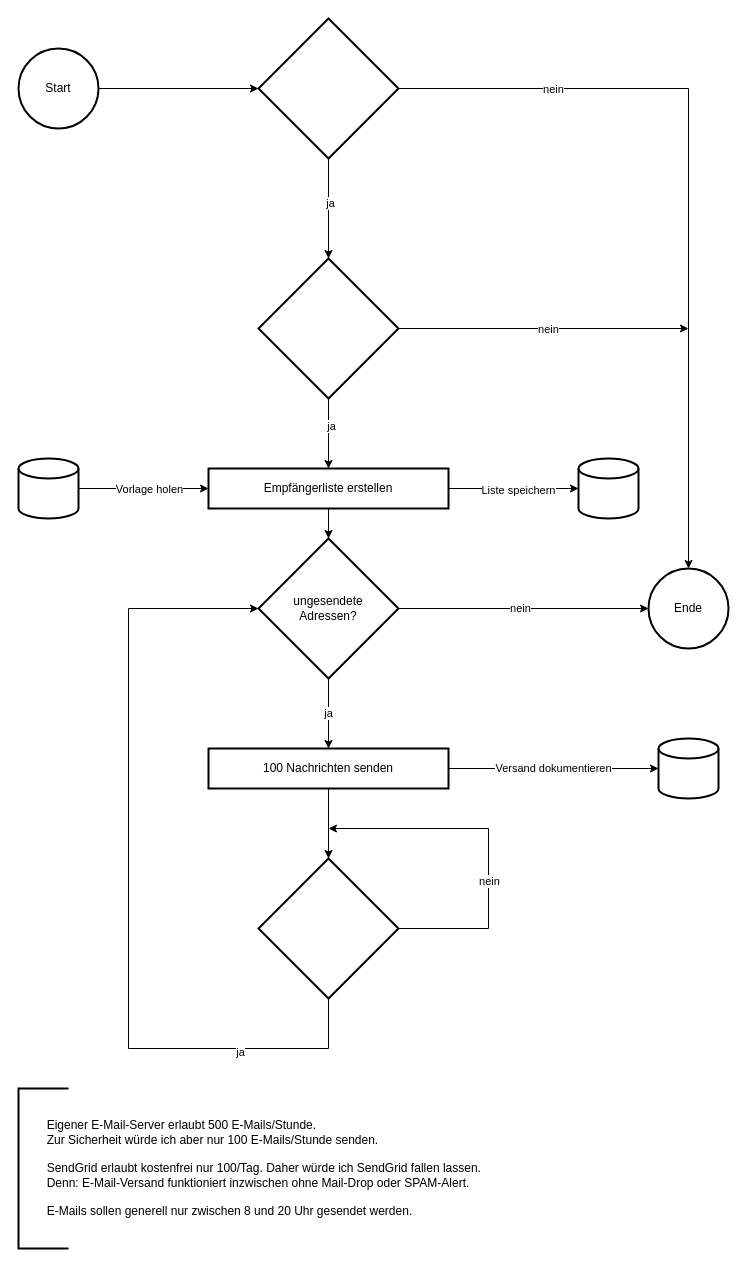
Some shapes in this 746 by 1266 pixel diagram are drawn without their labels. The shapes that lost their labels are listed below. From the top down, each one's centre as x and y in pixels, then its label:
At pixel 328 88: "Ein neuer Tag?".
At pixel 328 328: "Versand für heute geplant?".
At pixel 328 928: "eine Stunde vergangen?".
